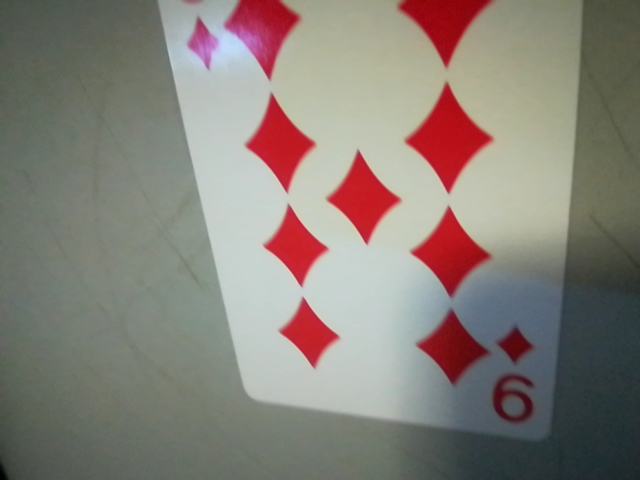fk 9: (479, 318, 557, 434)
